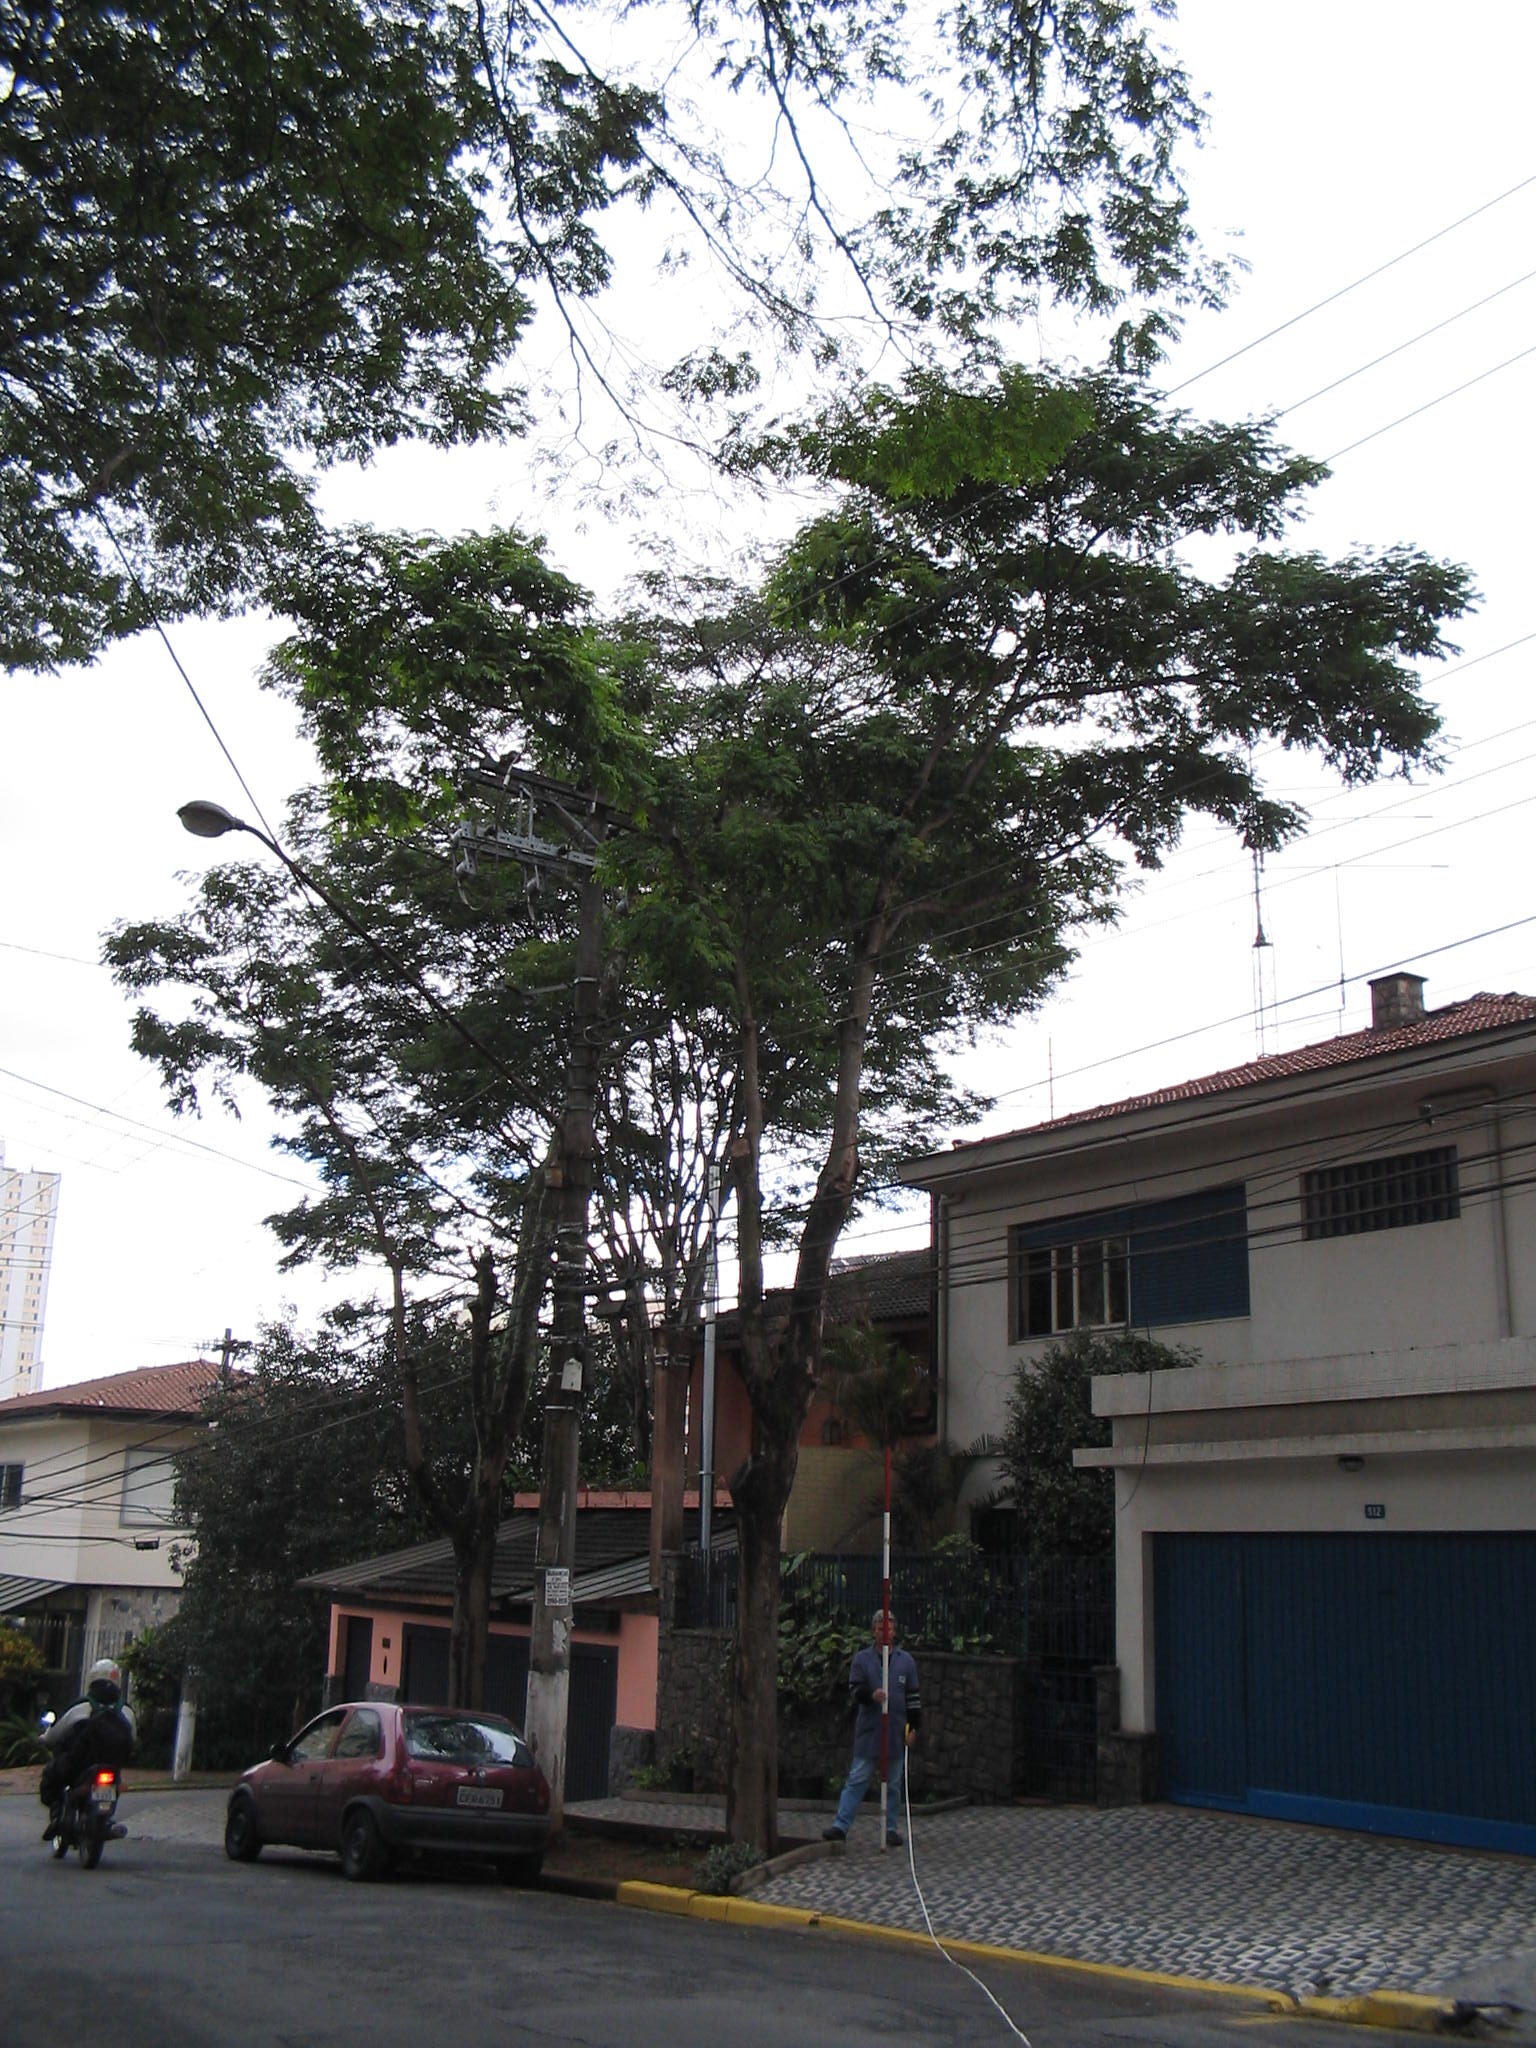crown: (302, 361, 1488, 1118)
stem: (682, 1493, 808, 1869)
stick: (865, 1450, 907, 1846)
tree: (290, 360, 1492, 1872)
